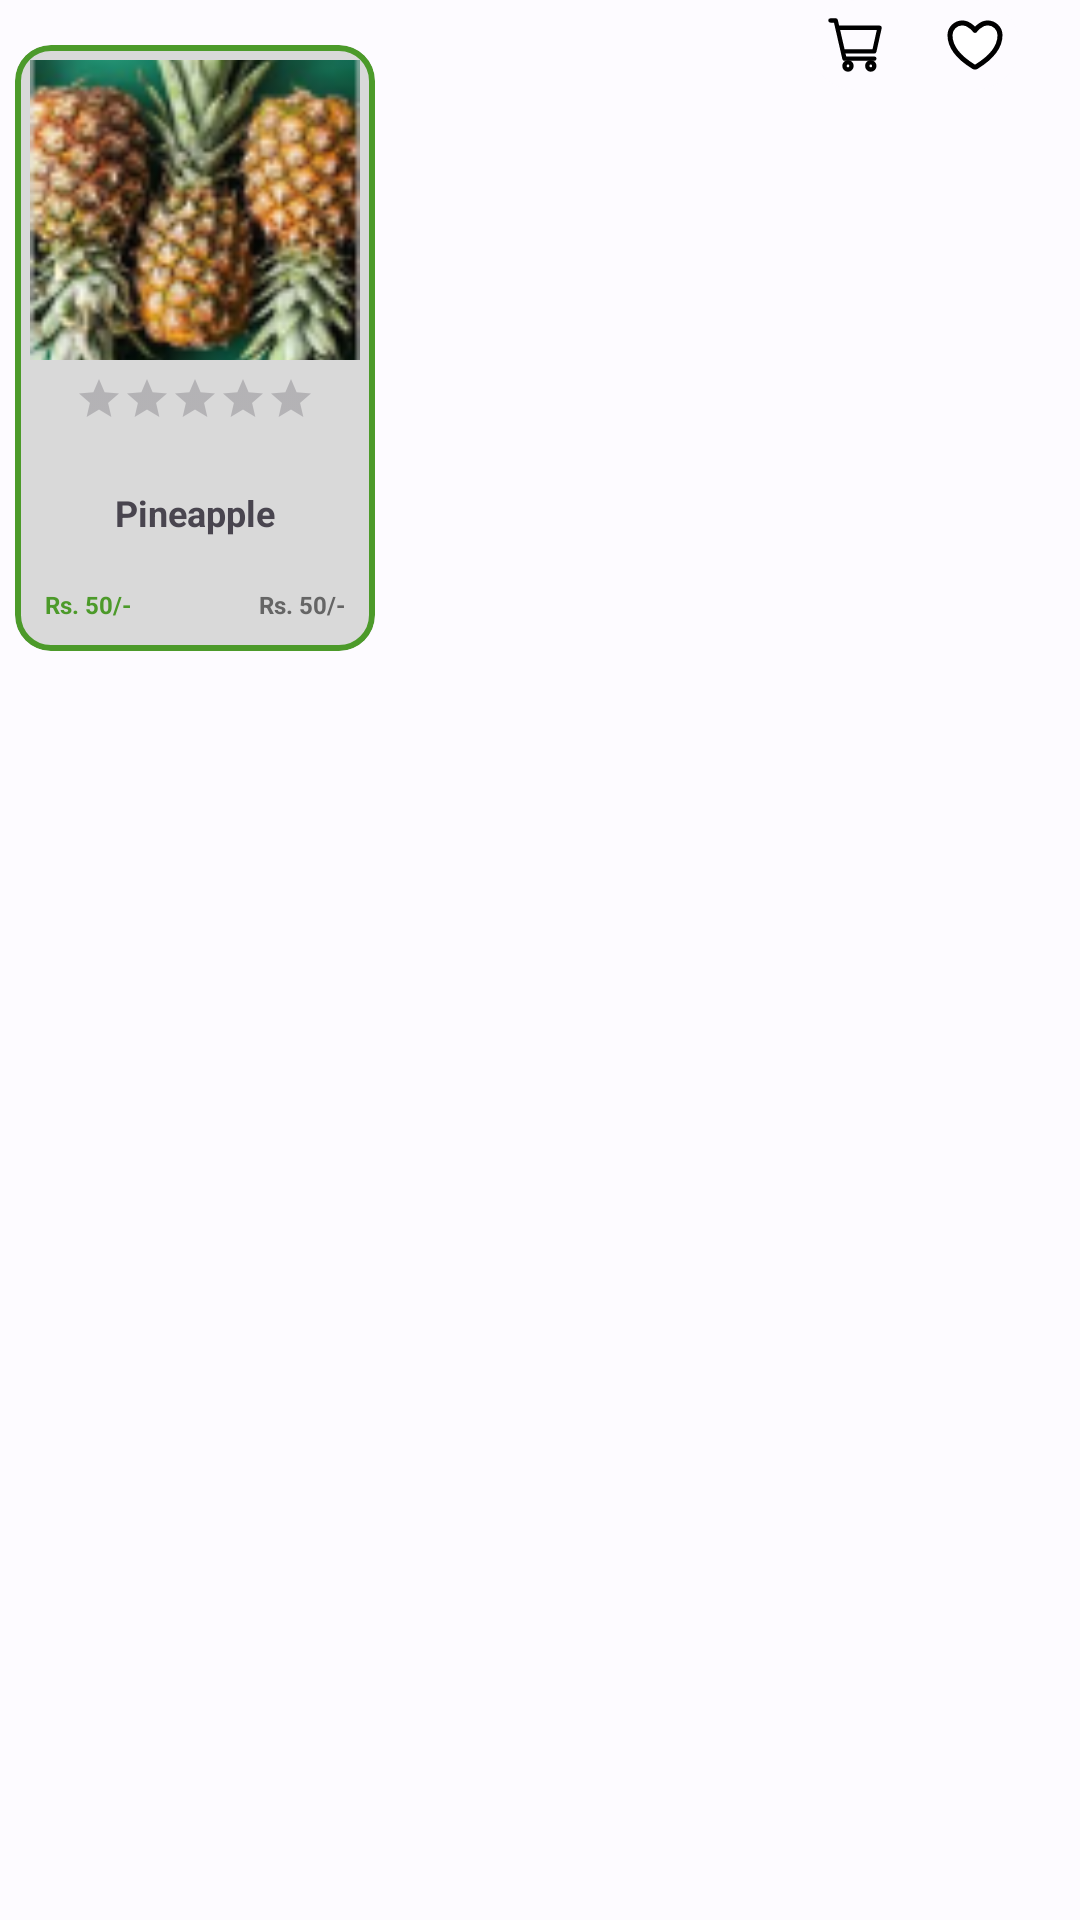

Named icons in this screenshot (1080px x 1920px) and their bounding boxes, box=[x1, y1, x2, y2]:
cart ite: box=[828, 18, 882, 72]
like: box=[947, 20, 1003, 70]
